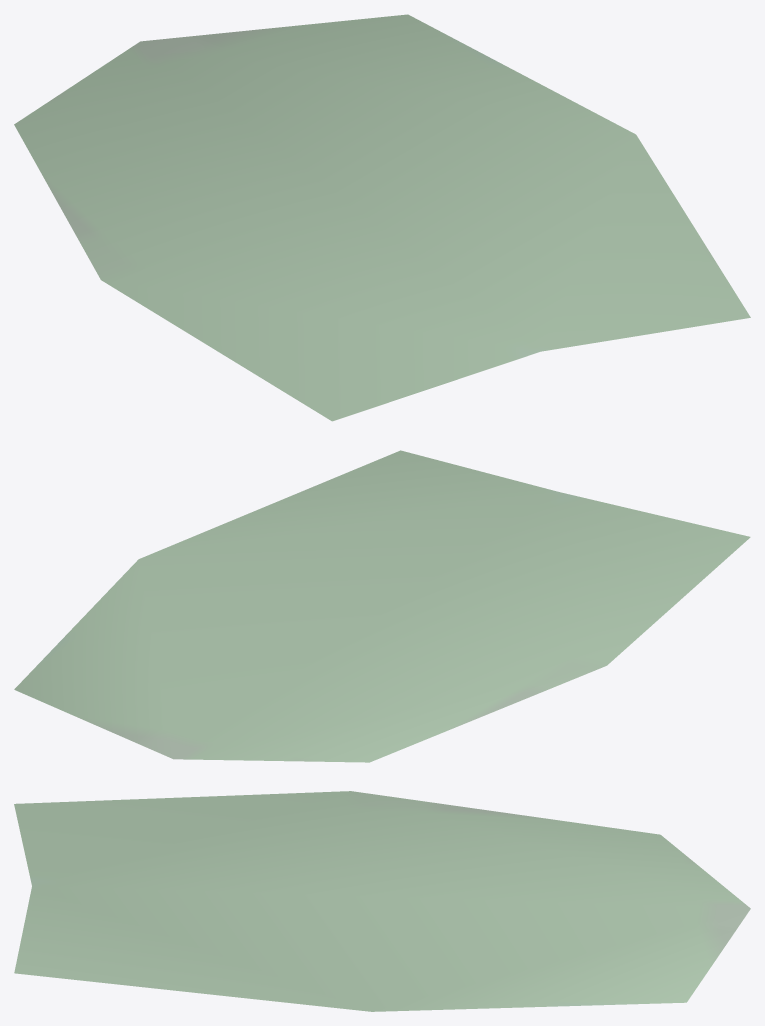
File: TROLLHOLE02_HOLECAP155.fbx
The picture shows the model from 3 angles, top to bottom: view 1: azimuth 30°, elevation 25°; view 2: azimuth 150°, elevation 25°; view 3: azimuth 270°, elevation 25°; orthographic projection. The views are drawn at different scales.
Parts seen in each view (by area): view 1: TROLLHOLE02_HOLECAP155; view 2: TROLLHOLE02_HOLECAP155; view 3: TROLLHOLE02_HOLECAP155.
Boxes of the visible parts, x1,y1,x2,y2 form: TROLLHOLE02_HOLECAP155: [14, 14, 750, 421]; TROLLHOLE02_HOLECAP155: [14, 450, 750, 762]; TROLLHOLE02_HOLECAP155: [14, 791, 750, 1011].
Bounding box in the file's own units: 26628 × 602 × 37161.
Materials: 1 (1 with a texture image).
